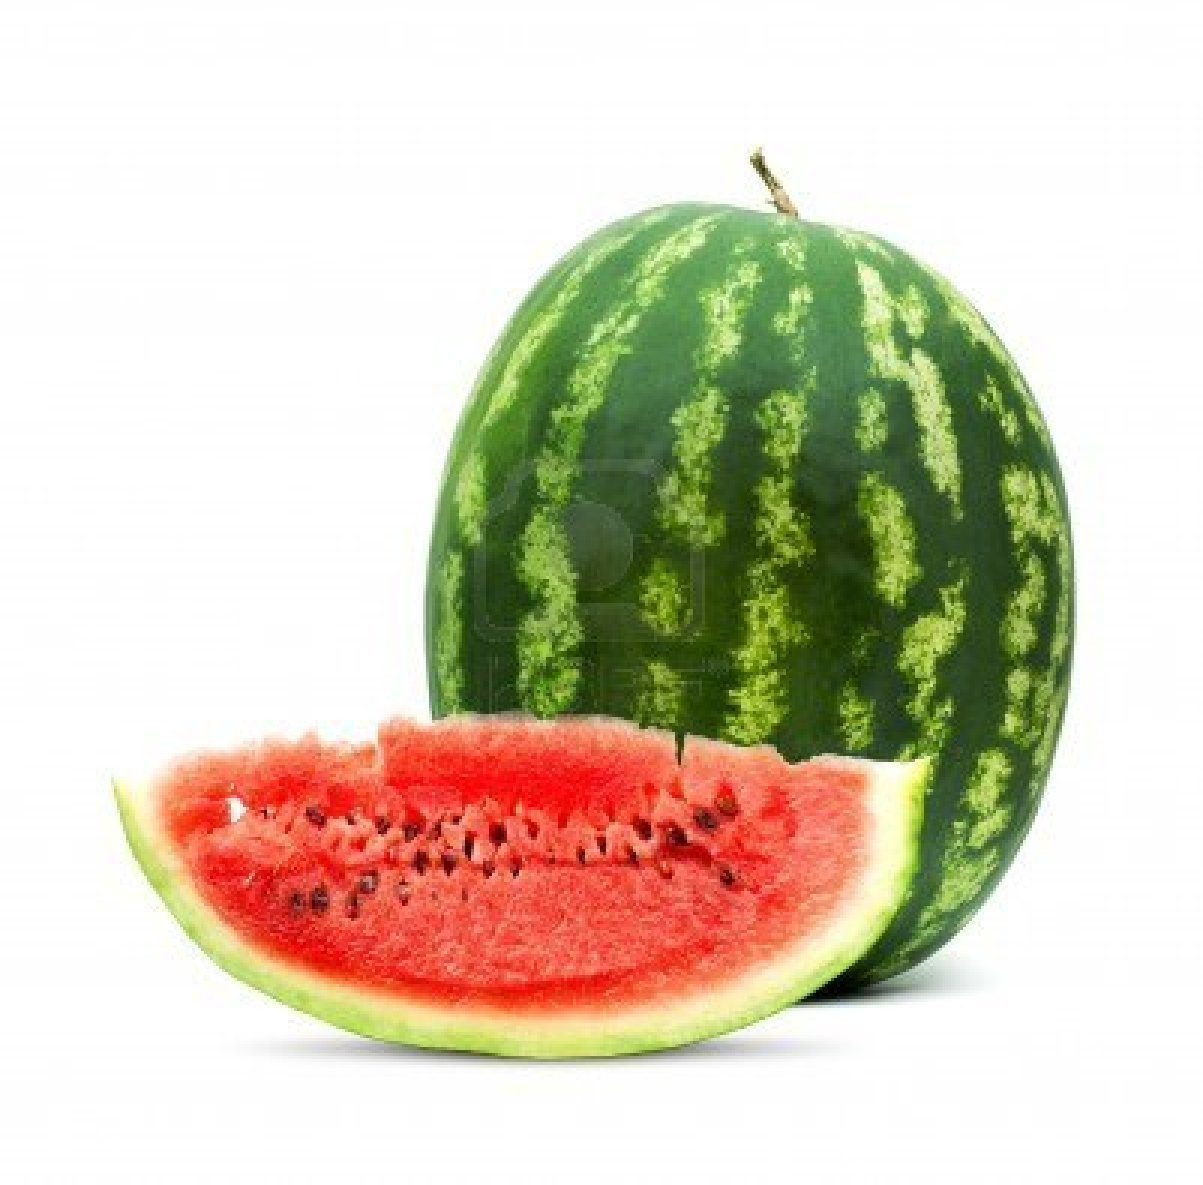watermelon: (420, 183, 1062, 875), (107, 757, 903, 1052)
